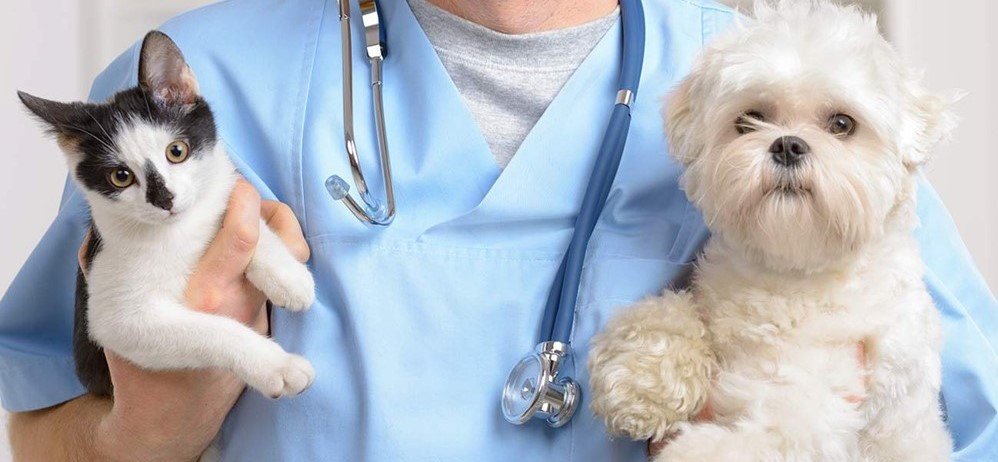pet: (632, 33, 927, 462)
